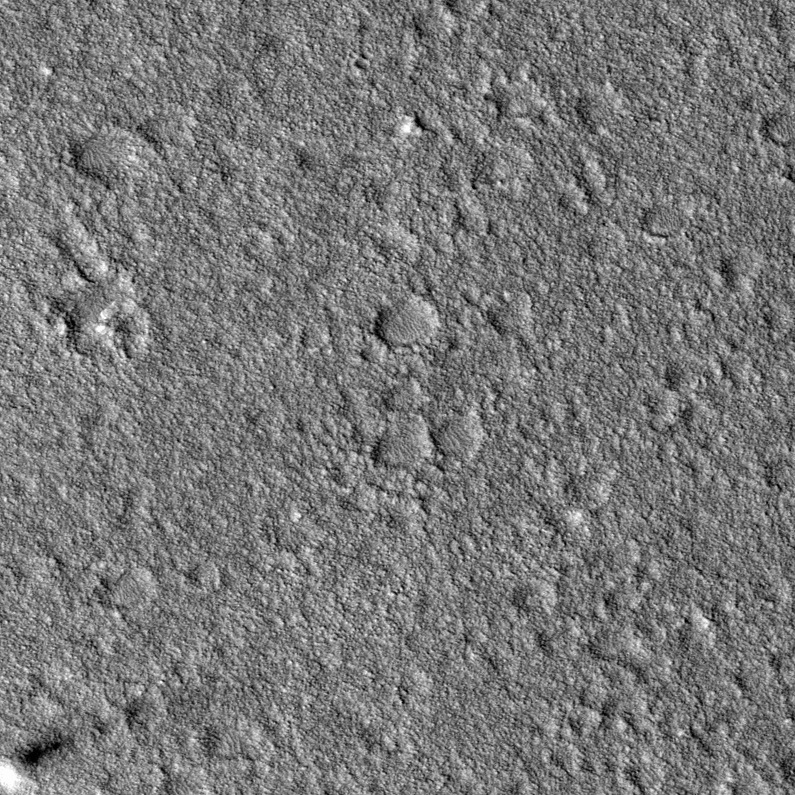dust_devil: (1, 727, 76, 795)
